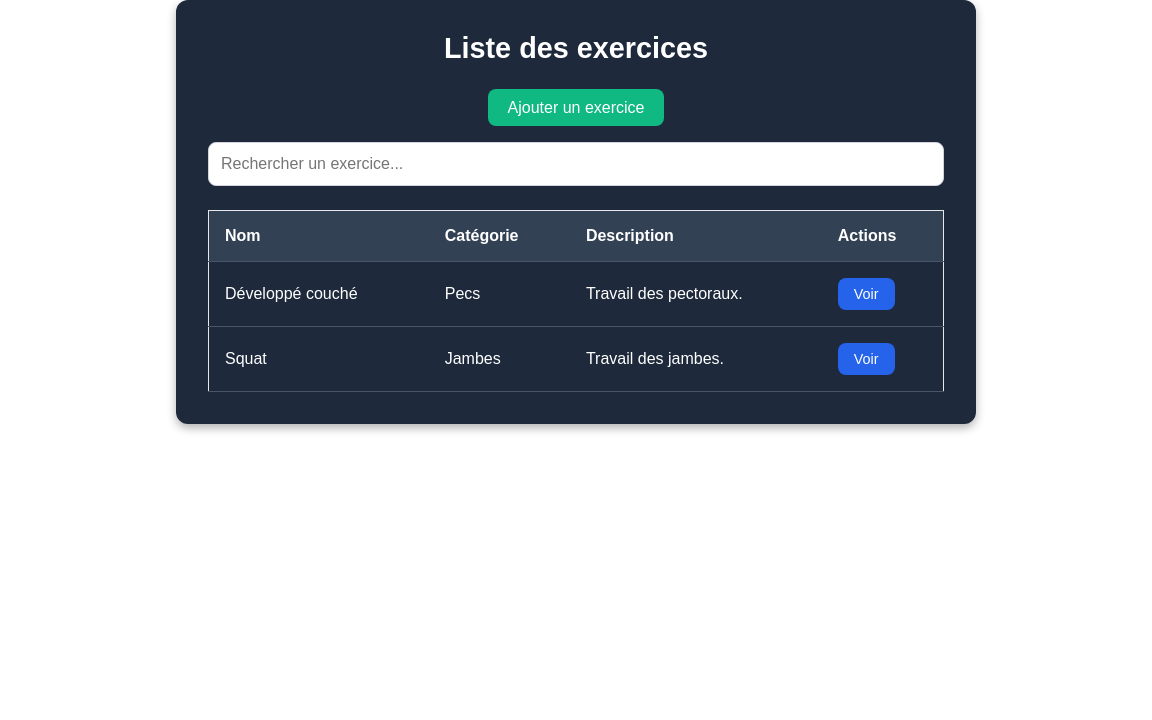
Test: Exercices.vue › toggle le formulaire d'ajout
The image size is (1152, 720).
Click the button with class "add-btn".
click(576, 108)  # box [488,89,664,126]
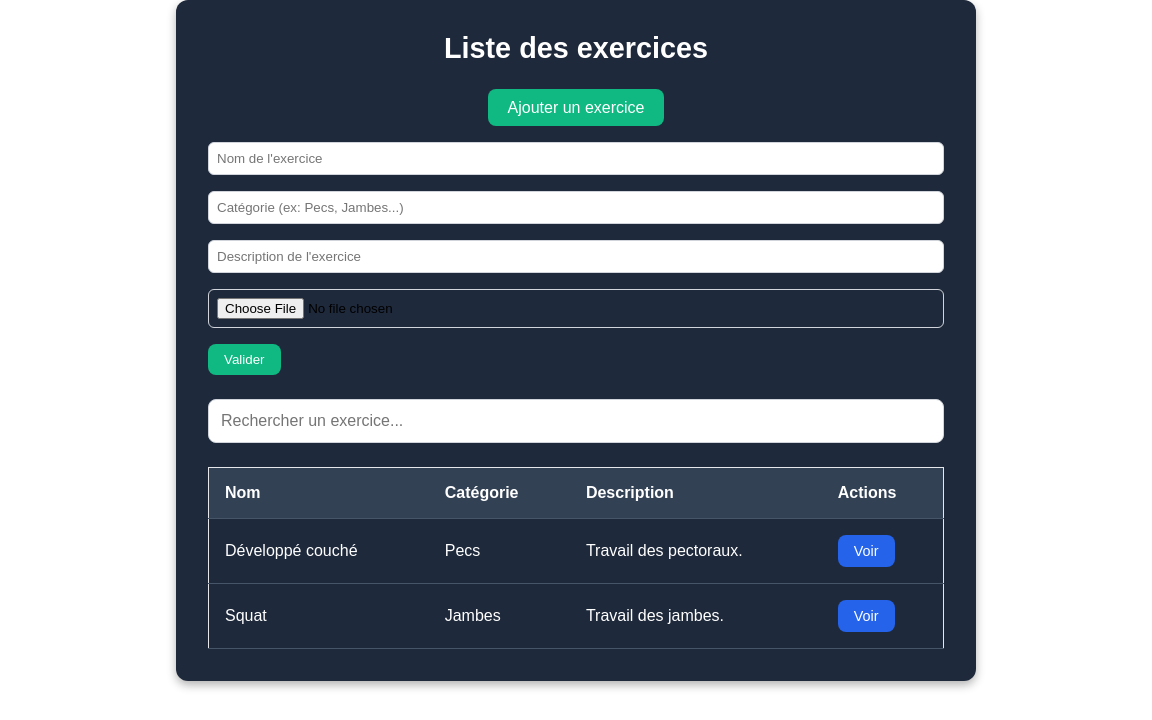
Now the element with class "add-form" is shown, box [208,142,944,375]
